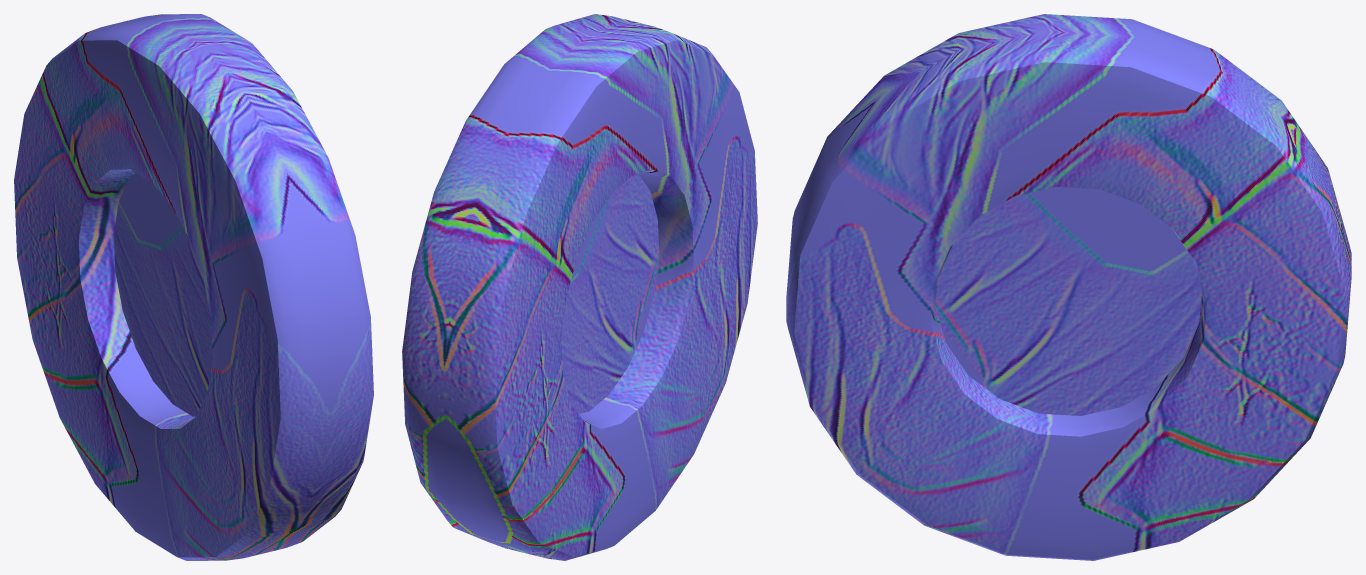
The model's file is legArmorGotenaRGT.fbx.
The picture shows the model from 3 angles, left to right: view 1: azimuth 30°, elevation 25°; view 2: azimuth 150°, elevation 25°; view 3: azimuth 270°, elevation 25°; orthographic projection. The views are drawn at different scales.
Visible parts, largest first — view 1: legArmorCiladeaRGT; view 2: legArmorCiladeaRGT; view 3: legArmorCiladeaRGT.
Part boxes in pixels (x1,y1,x2,y2): legArmorCiladeaRGT: [14, 14, 373, 560]; legArmorCiladeaRGT: [402, 14, 757, 560]; legArmorCiladeaRGT: [786, 14, 1351, 560].
Size of the model in its own units: 0.1233 by 0.5805 by 0.5812.
